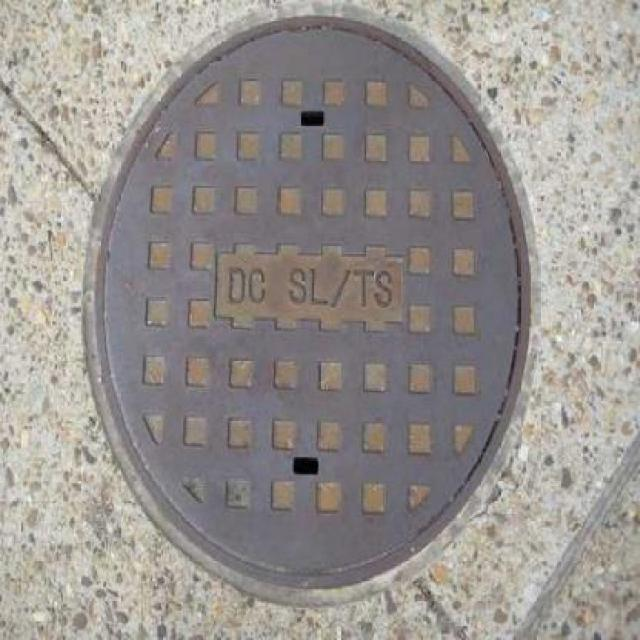Manhole: (70, 4, 553, 613)
